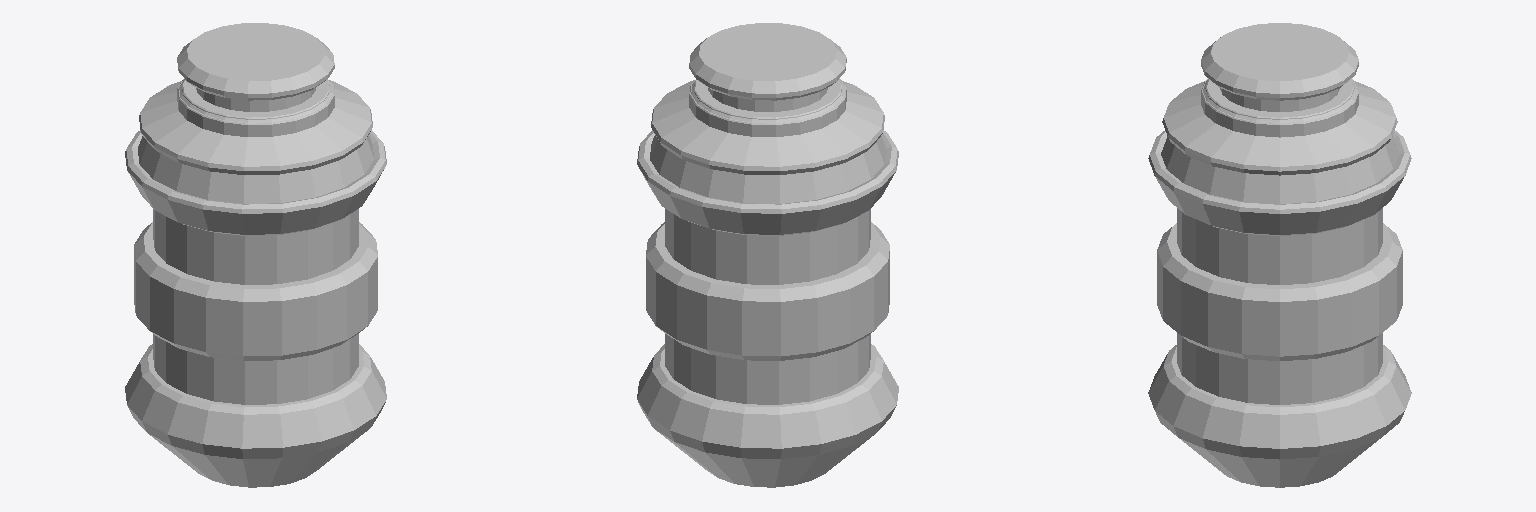
Rendered from mod stand.obj.
The picture shows the model from 3 angles: view 1: azimuth 30°, elevation 25°; view 2: azimuth 150°, elevation 25°; view 3: azimuth 270°, elevation 25°; orthographic projection.
Visible parts, largest first — view 1: mod_stand group26; view 2: mod_stand group26; view 3: mod_stand group26.
Part boxes in pixels (left/top/right/bottom): mod_stand group26: left=125, top=23, right=386, bottom=487; mod_stand group26: left=637, top=23, right=898, bottom=487; mod_stand group26: left=1148, top=23, right=1411, bottom=487.
Size of the model in its own units: 59.18 by 101 by 59.18.